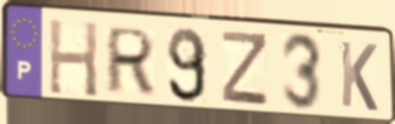3: (279, 29, 325, 117)
9: (165, 25, 210, 106)
H: (47, 16, 101, 100)
K: (338, 38, 380, 115)
R: (103, 25, 158, 97)
Z: (220, 29, 270, 110)
